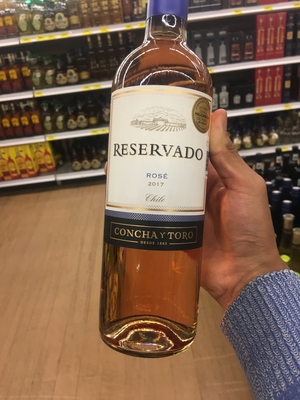reservado rose: (96, 7, 219, 339)
